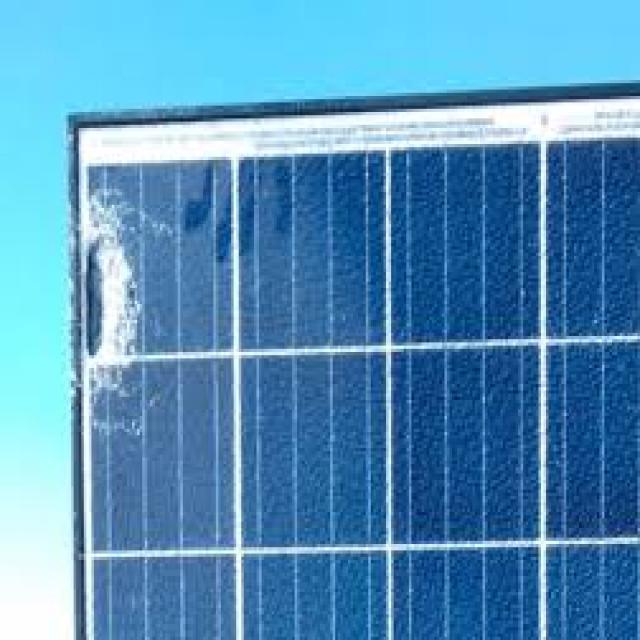faulty: (73, 133, 640, 640)
